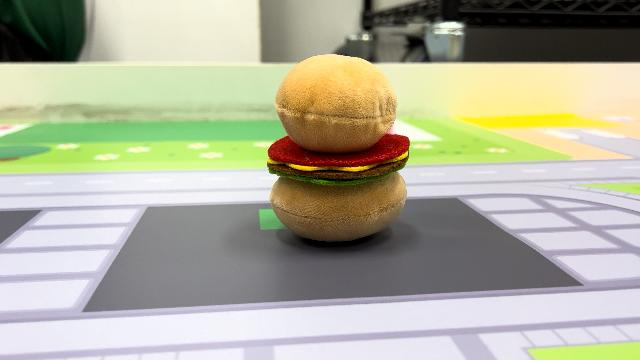burger: (262, 50, 414, 246)
